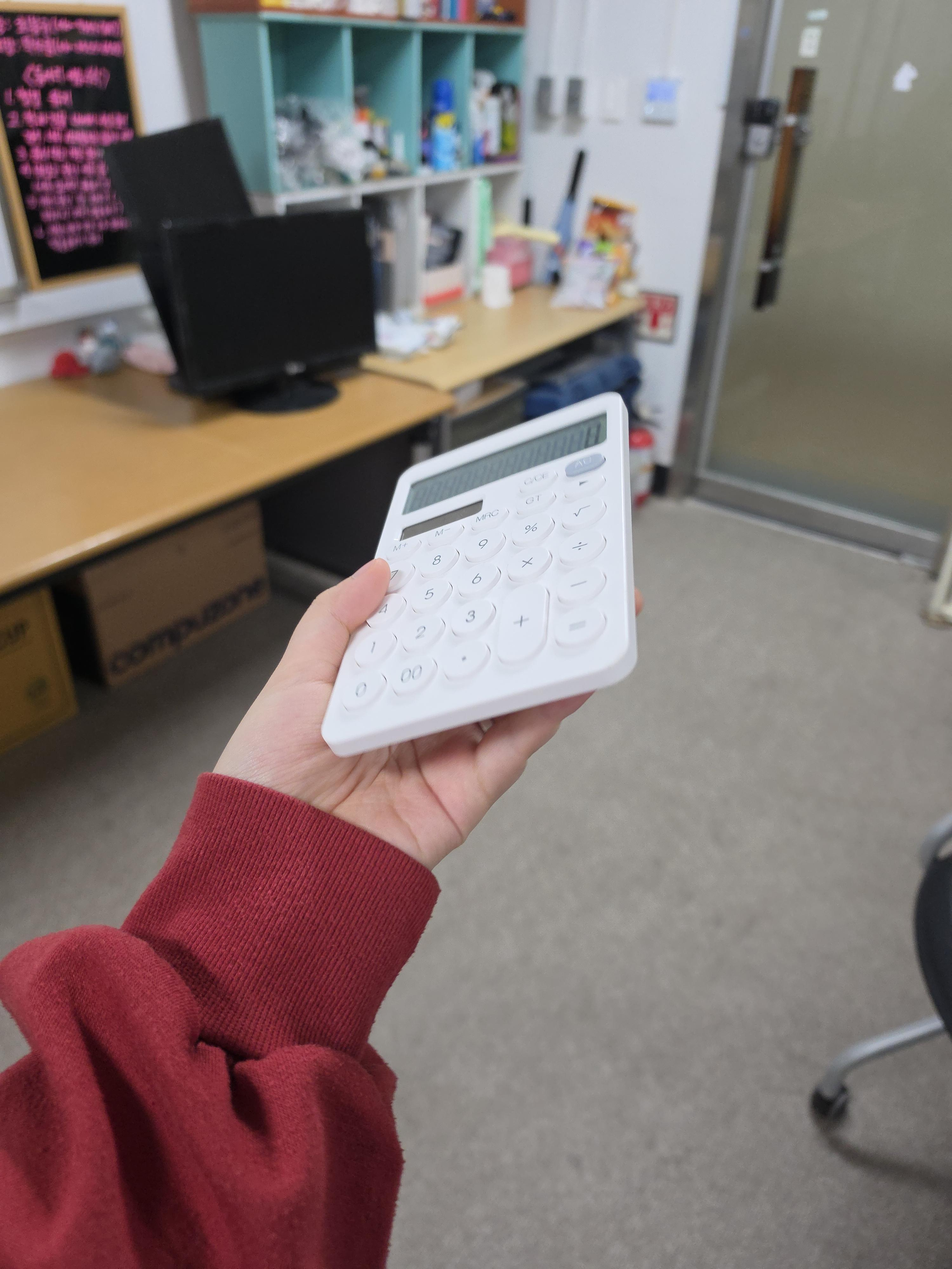calculator: (322, 393, 638, 759)
